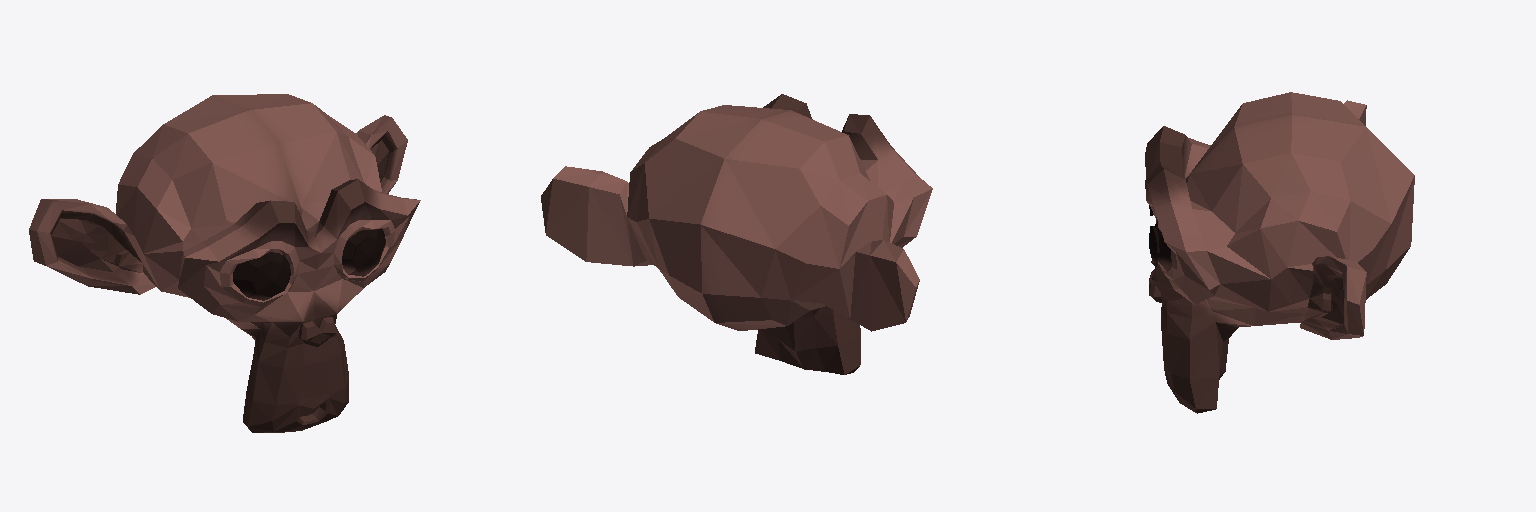
The picture shows the model from 3 angles: view 1: azimuth 30°, elevation 25°; view 2: azimuth 150°, elevation 25°; view 3: azimuth 270°, elevation 25°; orthographic projection.
Visible parts, largest first — view 1: Suzanne; view 2: Suzanne; view 3: Suzanne.
Boxes of the visible parts, x1=… form: Suzanne: x1=29, y1=94, x2=420, y2=432; Suzanne: x1=541, y1=94, x2=932, y2=374; Suzanne: x1=1145, y1=92, x2=1414, y2=413.
Size of the model in its own units: 2.73 by 1.97 by 1.7.
1 materials, 1 textured.